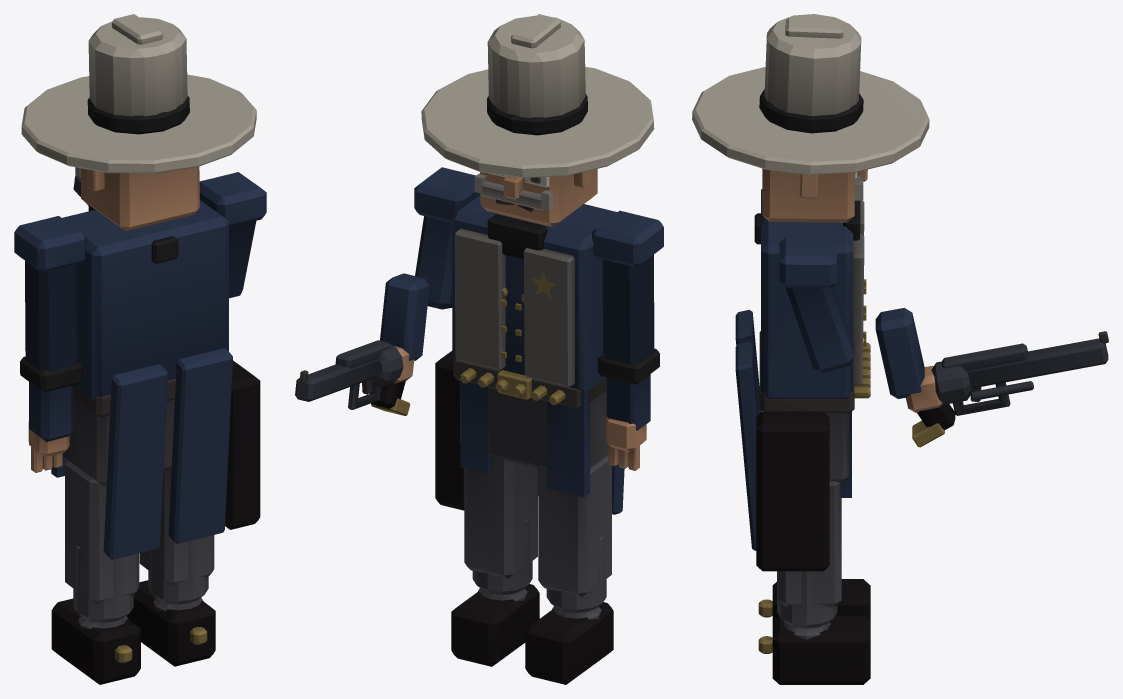
Rendered from cowboy_marshal.glb.
3 renders of one model, left to right at view 1: azimuth 30°, elevation 25°; view 2: azimuth 150°, elevation 25°; view 3: azimuth 270°, elevation 25°, orthographic.
Visible parts, largest first — view 1: O_Torso, O_Hat, O_CoatTail_L, O_CoatTail_R, O_Pelvis, O_Sleeve_L, O_Leg_L, O_Head, O_Shin_L, O_Shin_R, O_Leg_R, O_Sleeve_R (+1 smaller); view 2: O_Torso, O_Hat, O_Pelvis, O_Leg_L, O_Leg_R, O_Sleeve_L, O_Shin_L, O_Shin_R, O_Frame, O_Head, O_Fore_R, O_Sleeve_R (+2 smaller); view 3: O_Hat, O_Torso, O_Pelvis, O_Frame, O_Shin_R, O_Head, O_Leg_R, O_Fore_R, O_Sleeve_R, O_CoatTail_R, O_Shin_L, O_CoatTail_L.
Part boxes in pixels (box(x1,y1,x2,y2)): O_Torso: box(14, 172, 266, 477); O_Hat: box(21, 14, 256, 173); O_CoatTail_L: box(103, 364, 168, 559); O_CoatTail_R: box(168, 348, 232, 543); O_Pelvis: box(62, 360, 260, 529); O_Sleeve_L: box(25, 261, 77, 472); O_Leg_L: box(65, 460, 139, 622); O_Head: box(80, 166, 199, 231); O_Shin_L: box(51, 598, 140, 684); O_Shin_R: box(126, 580, 215, 666); O_Leg_R: box(139, 469, 214, 604); O_Sleeve_R: box(229, 220, 256, 298); O_Torso: box(414, 167, 663, 497); O_Hat: box(421, 14, 654, 177); O_Pelvis: box(435, 351, 608, 510); O_Leg_L: box(538, 455, 611, 612); O_Leg_R: box(464, 457, 537, 594); O_Sleeve_L: box(602, 254, 654, 470); O_Shin_L: box(525, 602, 613, 684); O_Shin_R: box(451, 584, 539, 666); O_Frame: box(295, 340, 410, 415); O_Head: box(480, 169, 597, 226); O_Fore_R: box(380, 273, 429, 383); O_Sleeve_R: box(415, 216, 452, 309); O_Hat: box(692, 14, 929, 174); O_Torso: box(754, 189, 866, 497); O_Pelvis: box(756, 331, 870, 571); O_Frame: box(912, 331, 1108, 447); O_Shin_R: box(758, 615, 870, 684); O_Head: box(762, 168, 867, 222); O_Leg_R: box(777, 481, 841, 628); O_Fore_R: box(875, 308, 942, 412); O_Sleeve_R: box(786, 285, 854, 373); O_CoatTail_R: box(735, 341, 759, 550); O_Shin_L: box(758, 579, 870, 621); O_CoatTail_L: box(735, 309, 761, 413).
Size of the model in its own units: 0.92 by 2.43 by 1.44.
